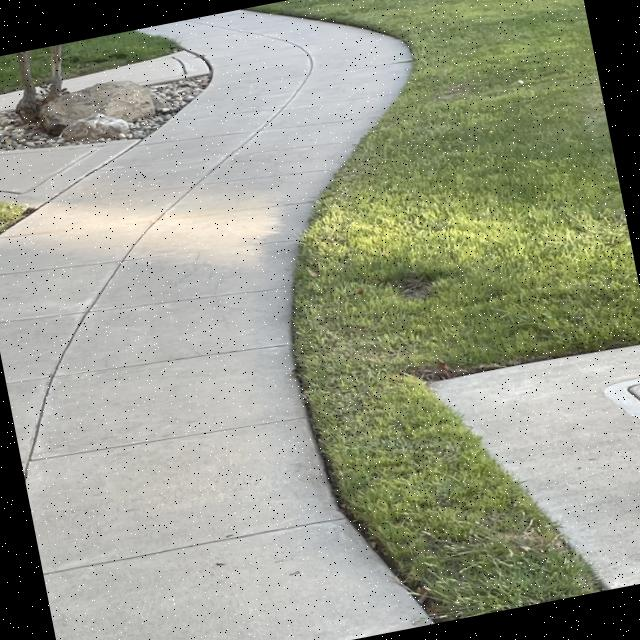walkway: (0, 192, 296, 346), (15, 329, 229, 529), (30, 449, 248, 640), (45, 150, 336, 258), (162, 90, 380, 174), (209, 56, 409, 128), (216, 26, 374, 92), (172, 12, 298, 68)
